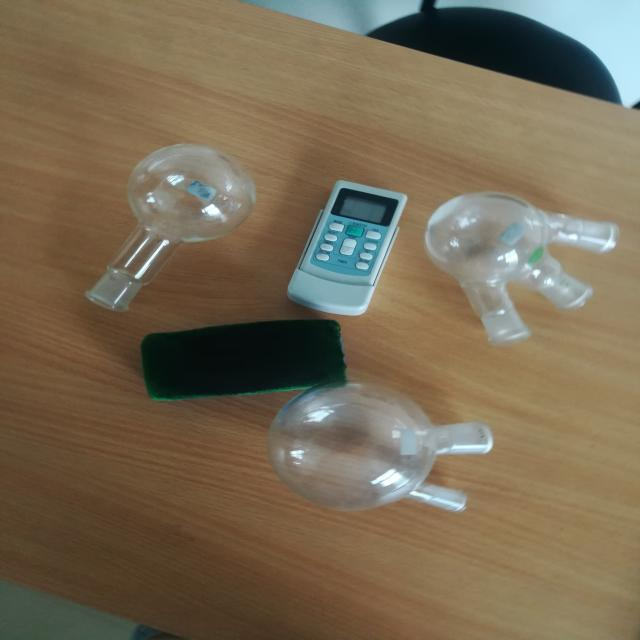Round_Bottom_Flask_Borosilicate_Glass_1_Neck: (58, 116, 272, 327)
Round_Bottom_Flask_Borosilicate_Glass_2_Neck: (200, 363, 521, 554)
Round_Bottom_Flask_Borosilicate_Glass_3_Neck: (403, 153, 638, 372)
